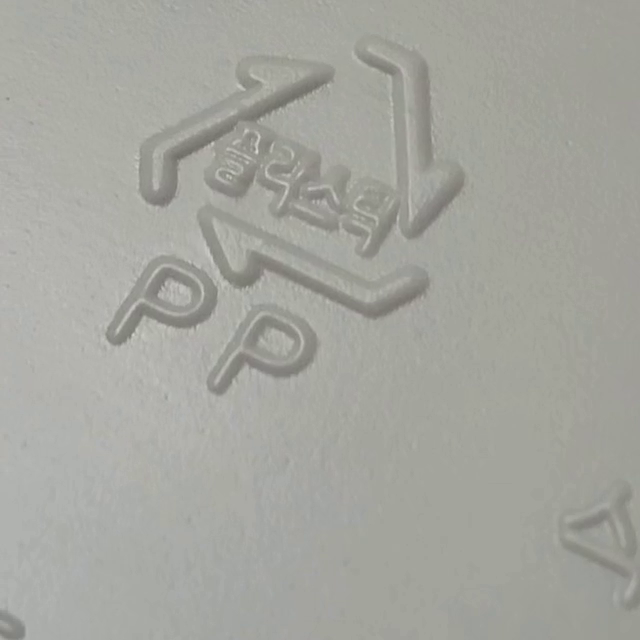Plastic: (141, 39, 463, 320)
